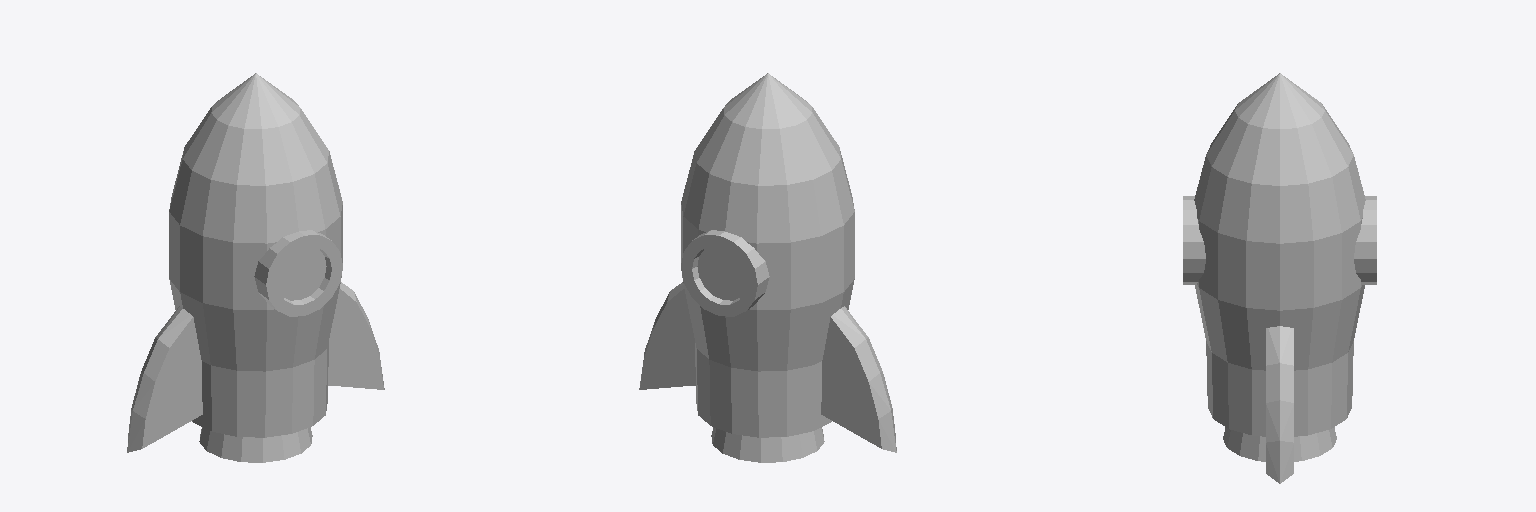
The model's file is spaceship.obj.
The picture shows the model from 3 angles: view 1: azimuth 30°, elevation 25°; view 2: azimuth 150°, elevation 25°; view 3: azimuth 270°, elevation 25°; orthographic projection.
Visible parts, largest first — view 1: 메시; view 2: 메시; view 3: 메시.
Boxes of the visible parts, box(x1,y1,x2,y2) form: 메시: box(127, 73, 384, 462); 메시: box(639, 73, 896, 462); 메시: box(1183, 73, 1376, 483).
Size of the model in its own units: 1.61 by 2.19 by 1.06.